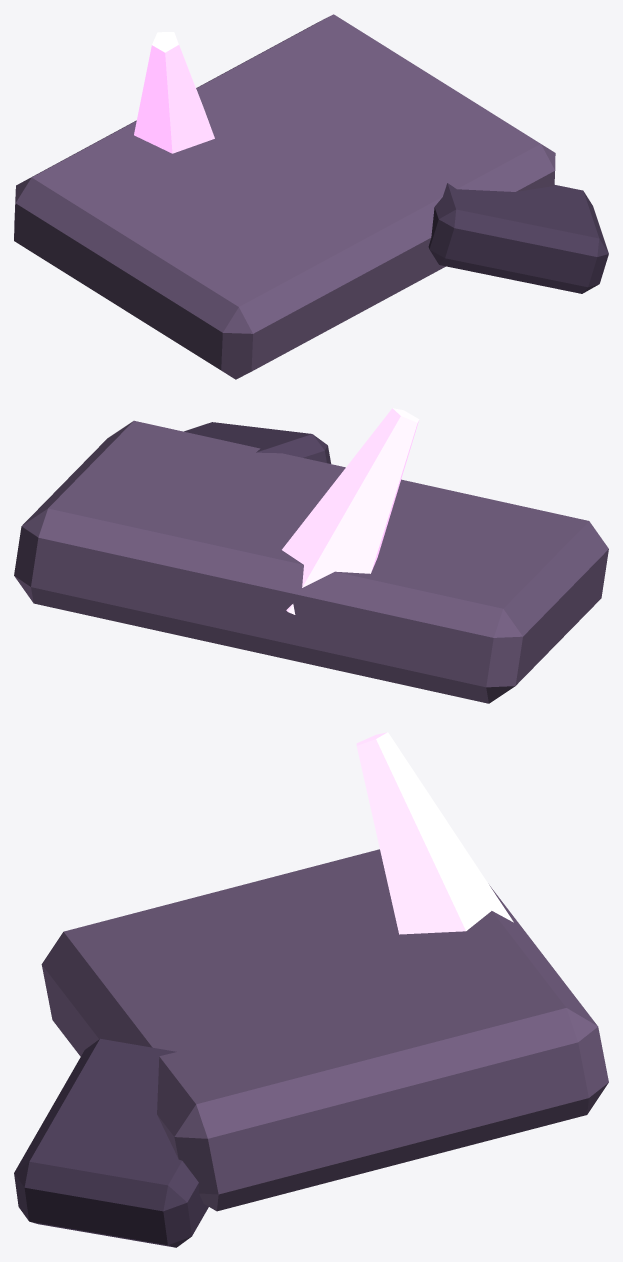
The model's file is enemy_crawler_fragment_shell.glb.
3 renders of one model, top to bottom at view 1: azimuth 30°, elevation 25°; view 2: azimuth 150°, elevation 25°; view 3: azimuth 270°, elevation 25°, orthographic. The views are drawn at different scales.
Visible parts, largest first — view 1: Fragment_Shell_Plate, Fragment_Shell_Chip, Fragment_Shell_Crystal; view 2: Fragment_Shell_Plate, Fragment_Shell_Crystal, Fragment_Shell_Chip; view 3: Fragment_Shell_Plate, Fragment_Shell_Chip, Fragment_Shell_Crystal.
Part boxes in pixels (x1,y1,x2,y2): Fragment_Shell_Plate: (14, 14, 555, 379); Fragment_Shell_Chip: (428, 183, 608, 293); Fragment_Shell_Crystal: (134, 32, 214, 153); Fragment_Shell_Plate: (14, 420, 608, 703); Fragment_Shell_Crystal: (282, 408, 419, 614); Fragment_Shell_Chip: (184, 422, 331, 463); Fragment_Shell_Plate: (41, 849, 608, 1211); Fragment_Shell_Chip: (14, 1038, 208, 1247); Fragment_Shell_Crystal: (356, 732, 513, 934).
Size of the model in its own units: 0.3064 by 0.1565 by 0.2545.
